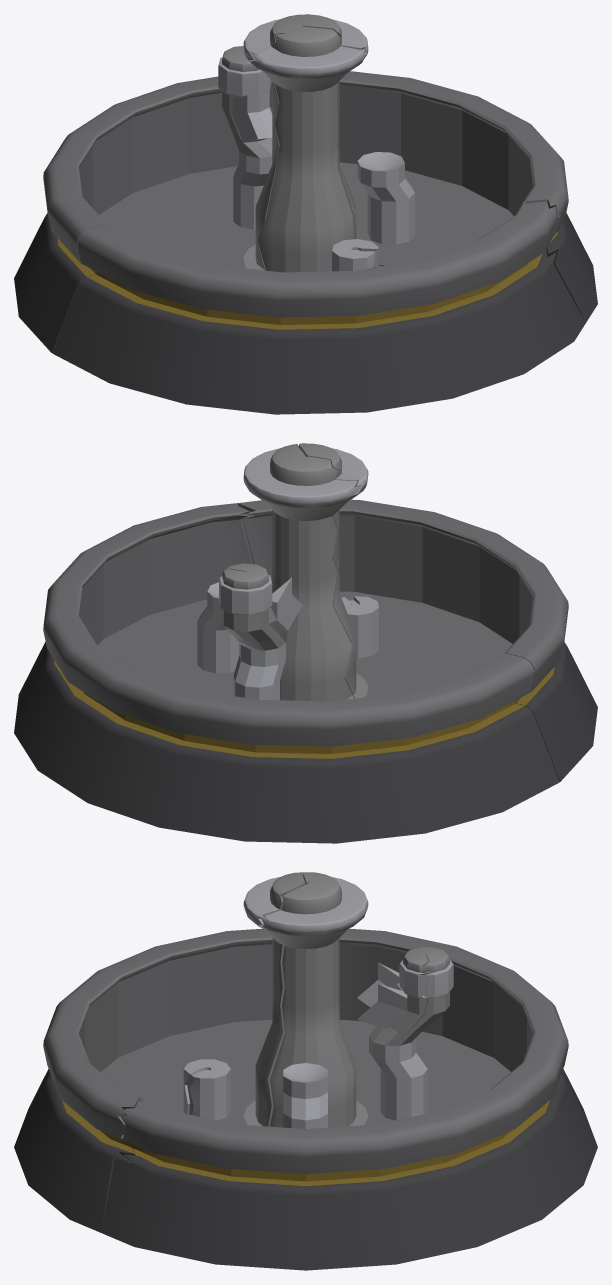
The model's file is Funte rota.fbx.
3 views of the same model, one above another, from view 1: azimuth 30°, elevation 25°; view 2: azimuth 150°, elevation 25°; view 3: azimuth 270°, elevation 25° (orthographic).
Parts seen in each view (by area): view 1: polySurface1; view 2: polySurface1; view 3: polySurface1.
Part boxes in pixels (x1=…): polySurface1: x1=14, y1=14, x2=597, y2=414; polySurface1: x1=14, y1=443, x2=597, y2=843; polySurface1: x1=14, y1=872, x2=597, y2=1270.
Bounding box in the file's own units: 7.9 × 3.93 × 7.9.
